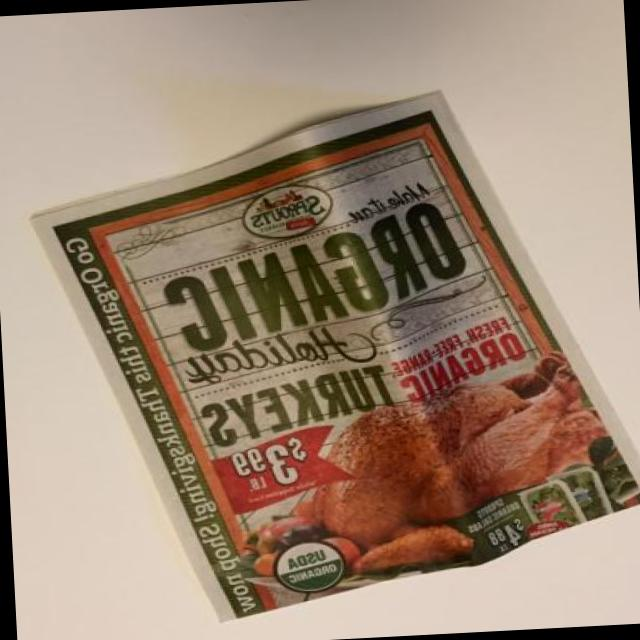paper: (49, 132, 634, 564)
